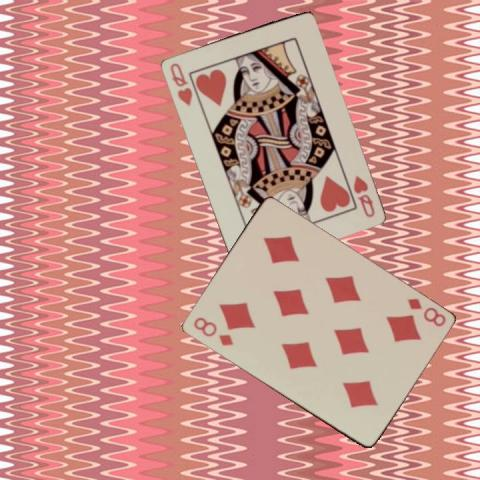8d: (404, 294, 448, 328), (190, 314, 235, 347)
Qh: (167, 60, 193, 107), (350, 172, 376, 219)
